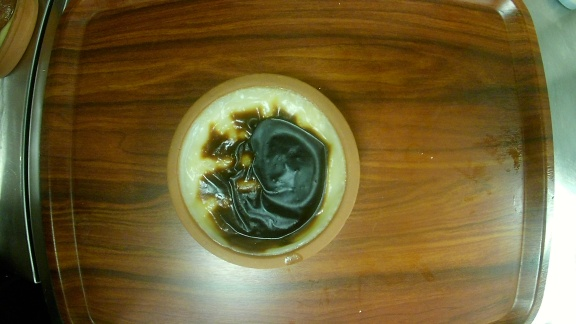sutlac: (165, 73, 362, 271)
